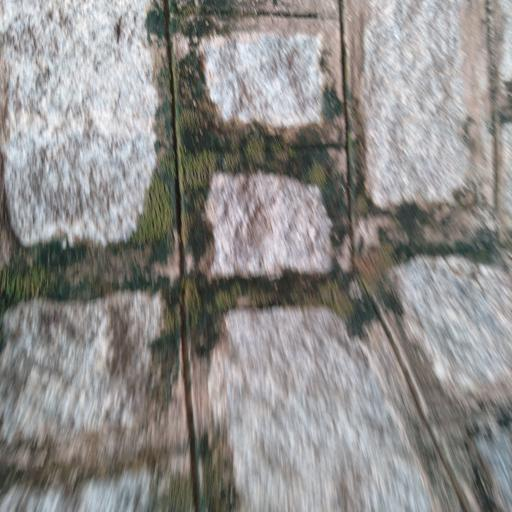algae: (0, 26, 500, 404)
